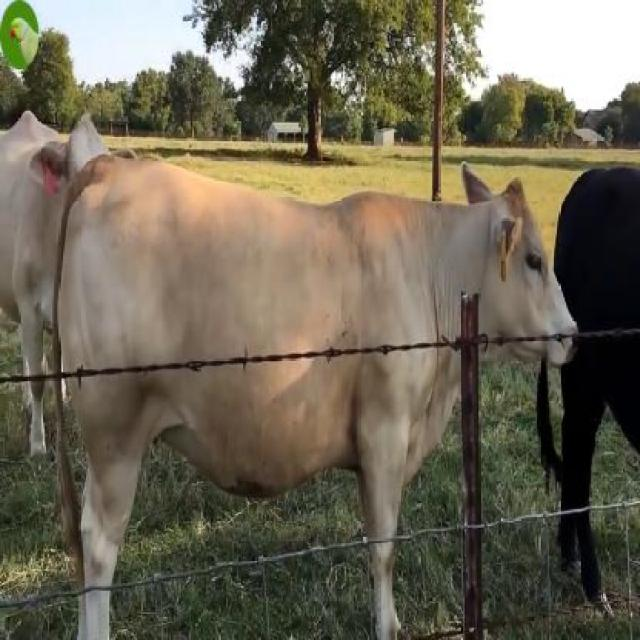Cow: (49, 166, 578, 639)
